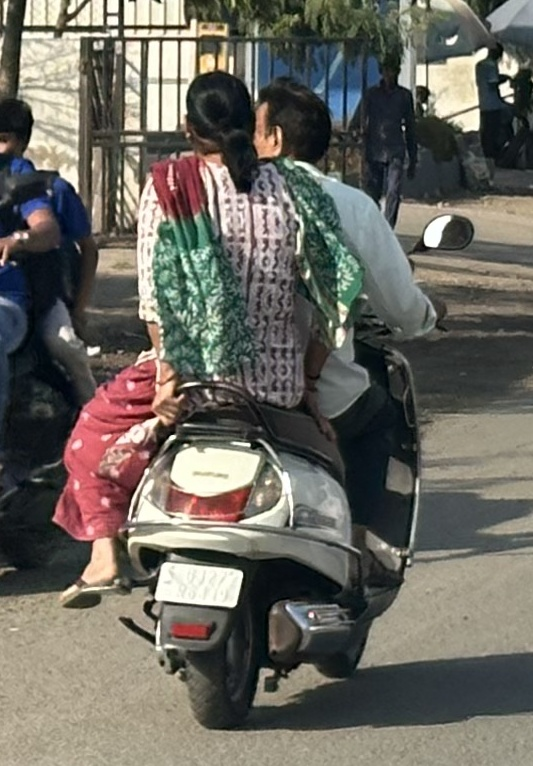BikeWithRider: (58, 71, 479, 735)
NoHelmet: (245, 78, 333, 173), (178, 73, 257, 164)
